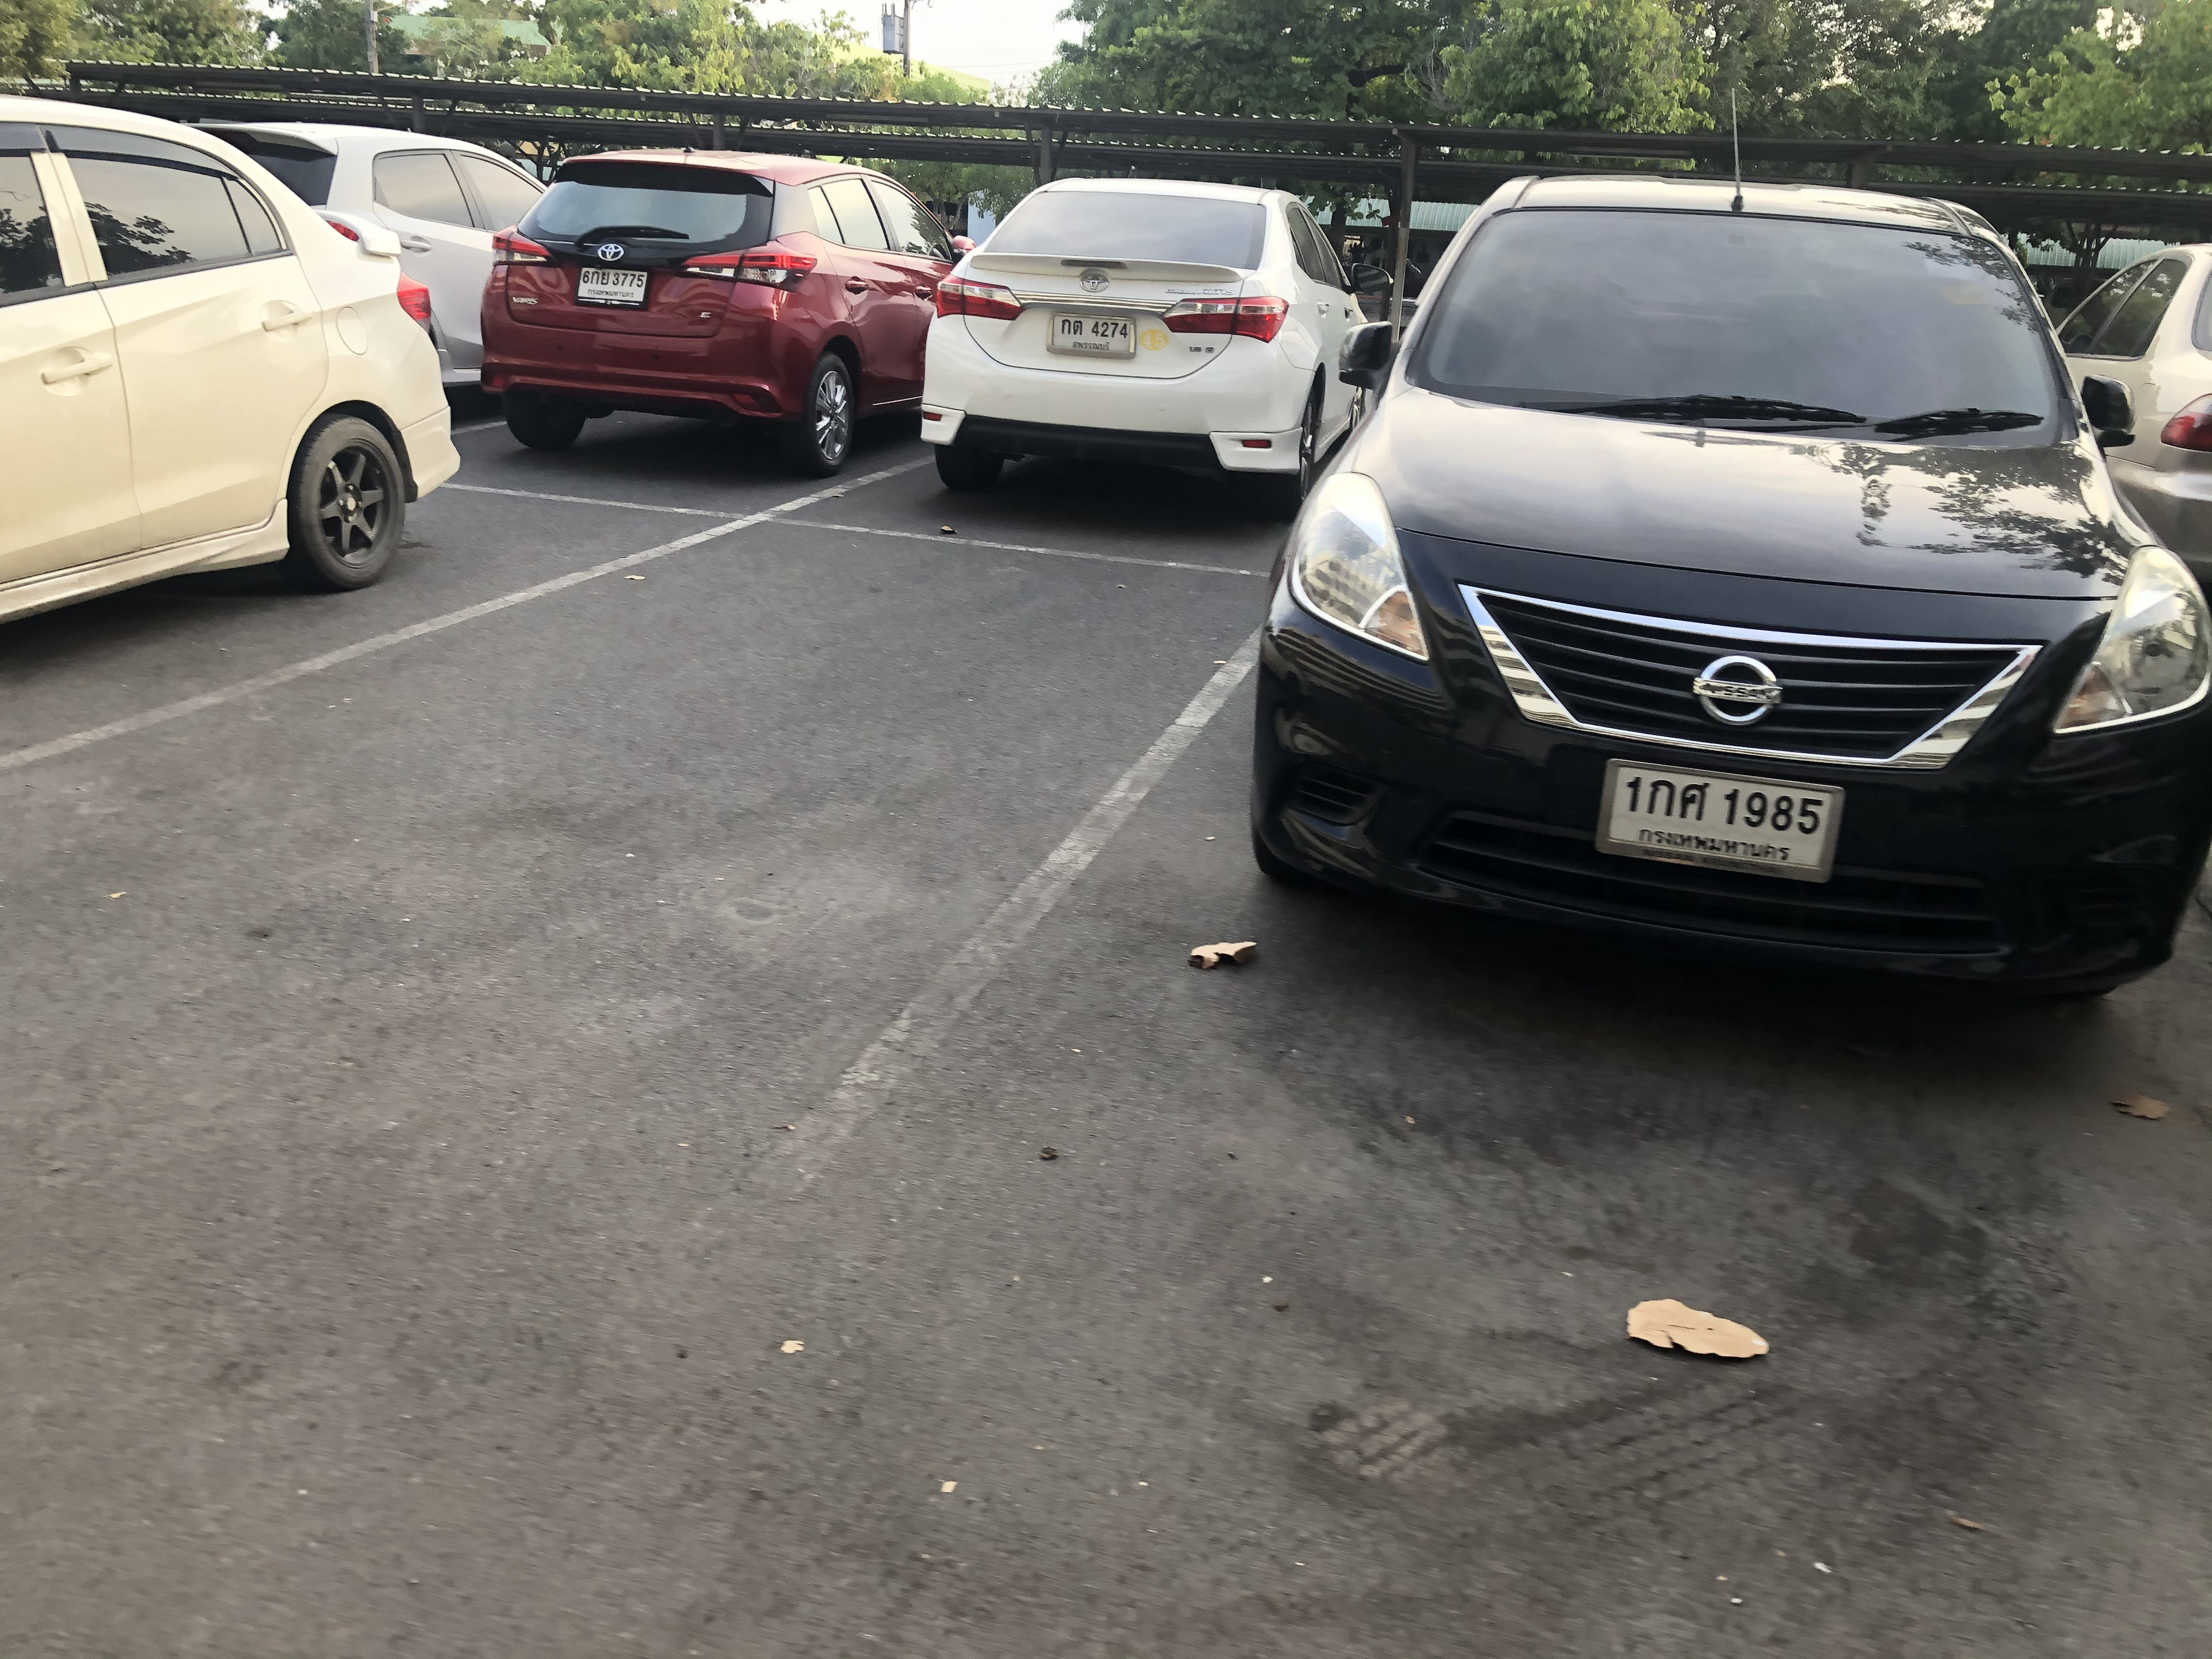in: (1609, 765, 1827, 868), (1054, 315, 1129, 352), (580, 267, 644, 301)
out: (1587, 742, 1844, 896), (1045, 310, 1137, 362), (577, 263, 651, 310)
